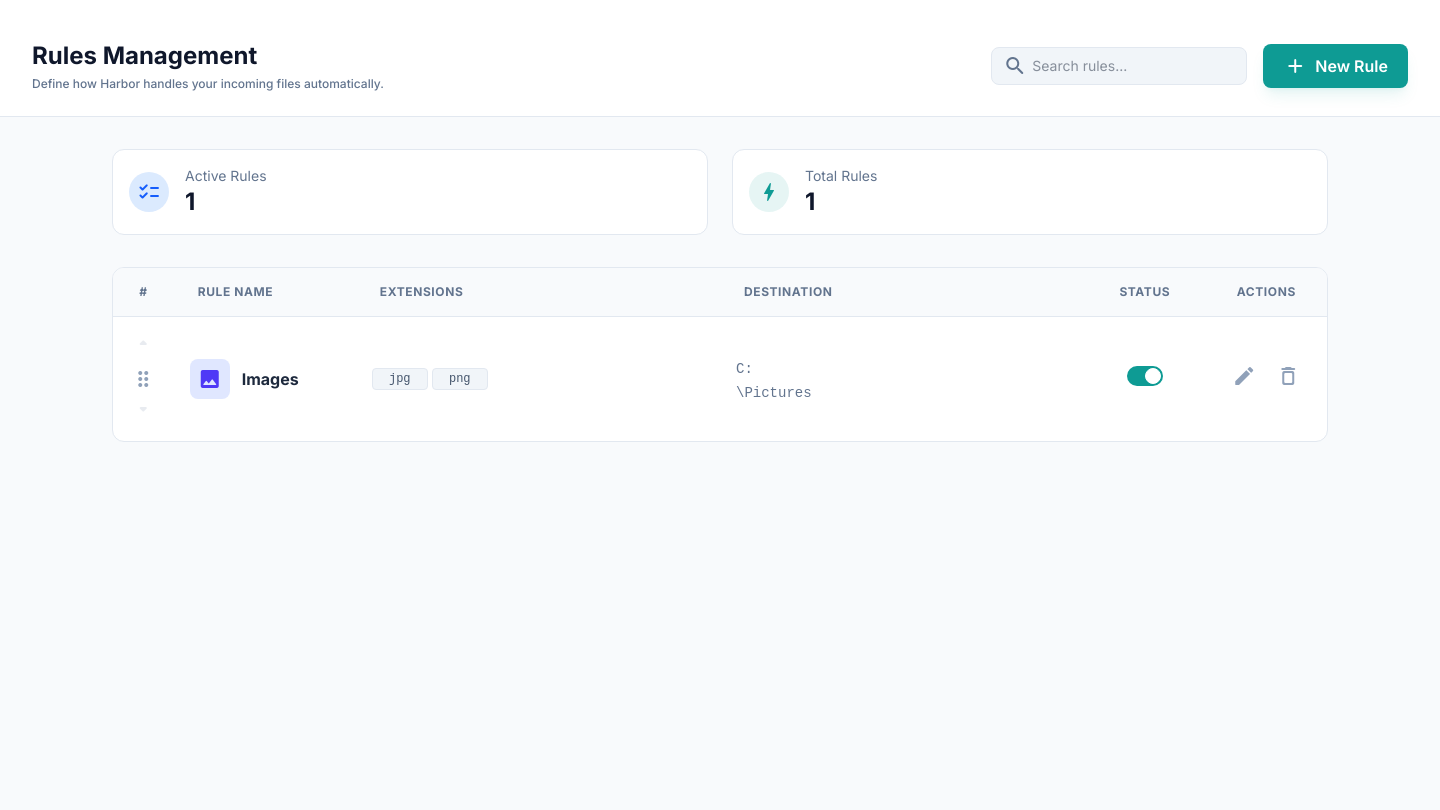
Test: RulesPage › cancels delete confirmation
Step 1. Click the button named "Delete Images" → (1288, 379), box [1270,358,1306,400]
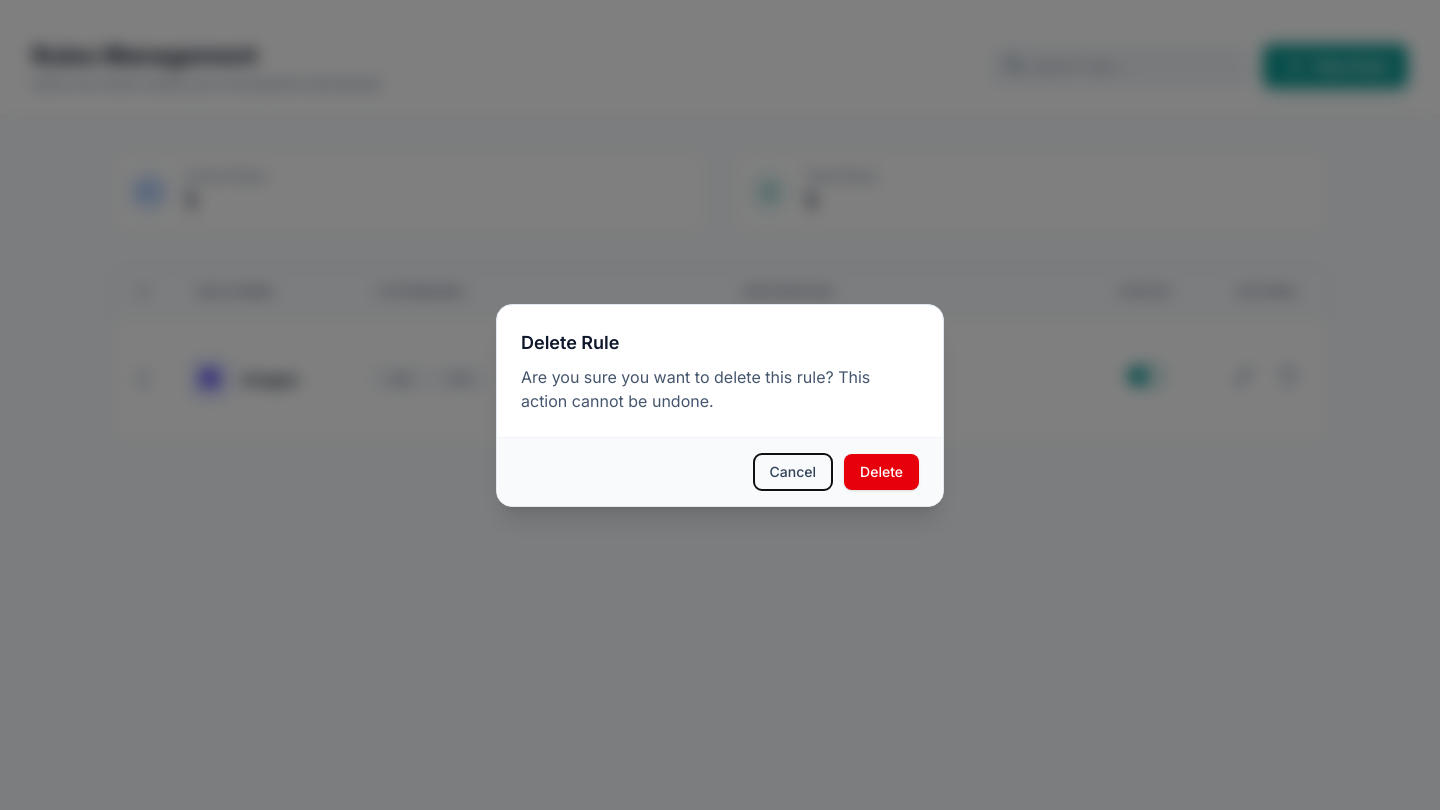
Expected: the heading "Delete Rule" is shown, [521,332,620,352]
Step 2. Click the button "Cancel" → (793, 472), box [754,454,832,490]
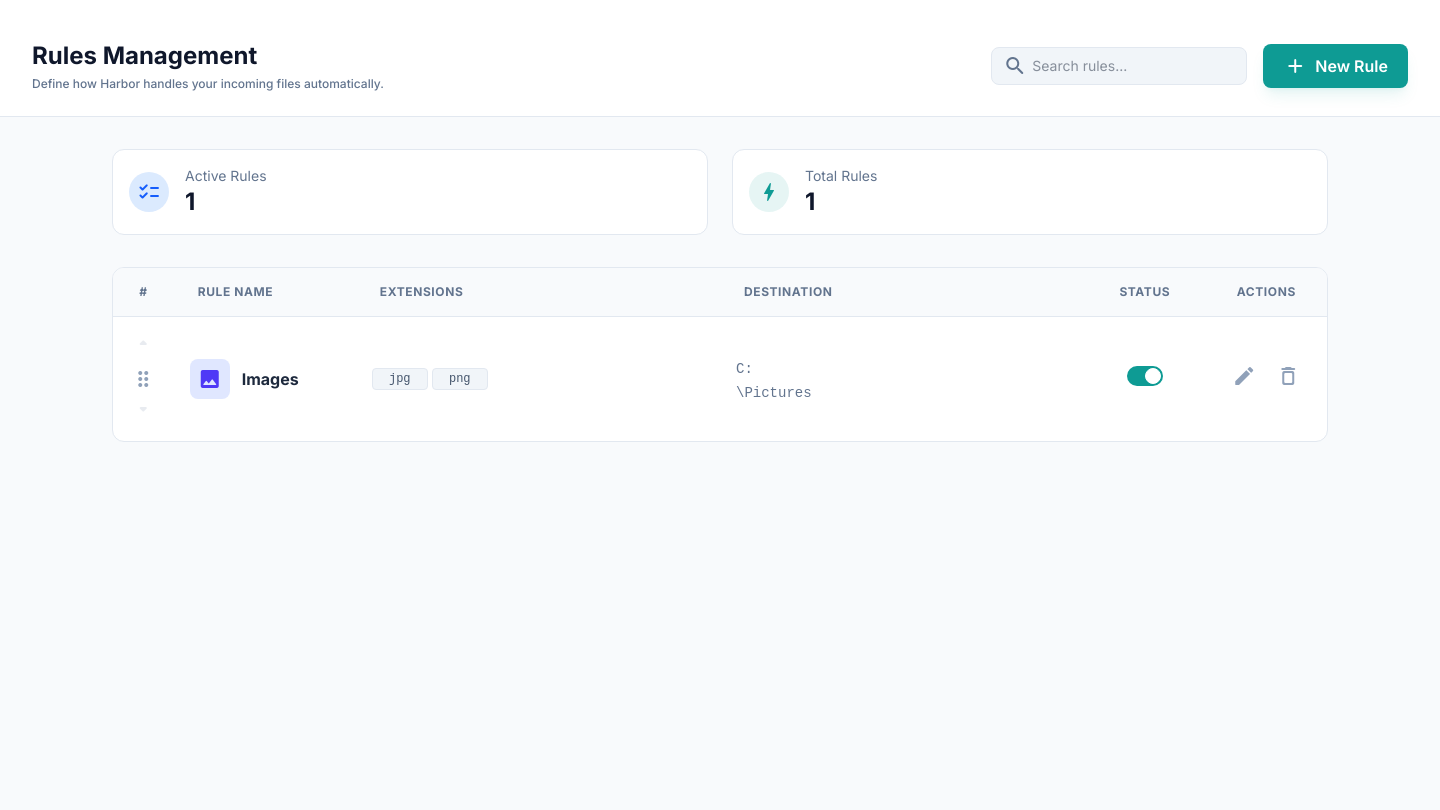
Expected: the heading "Delete Rule" is gone
